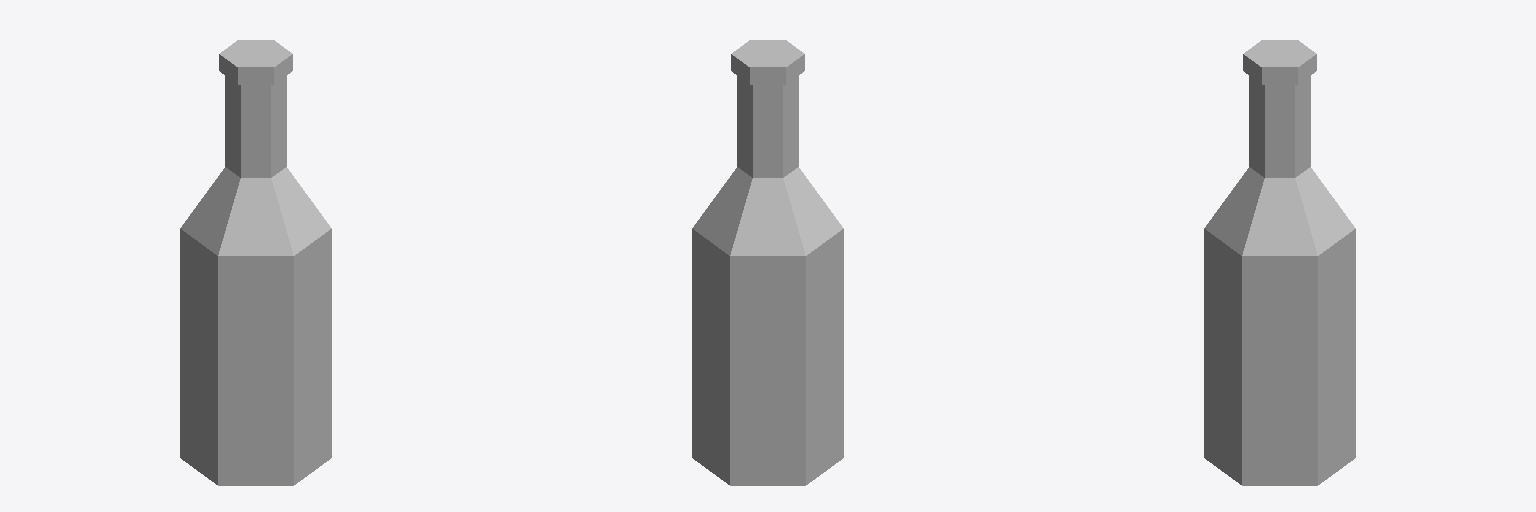
The model's file is Bottle.obj.
The picture shows the model from 3 angles: view 1: azimuth 30°, elevation 25°; view 2: azimuth 150°, elevation 25°; view 3: azimuth 270°, elevation 25°; orthographic projection.
Parts seen in each view (by area): view 1: Cylinder; view 2: Cylinder; view 3: Cylinder.
Boxes of the visible parts, box(x1,y1,x2,y2) form: Cylinder: box(180, 40, 331, 485); Cylinder: box(692, 40, 843, 485); Cylinder: box(1204, 40, 1355, 485).
Bounding box in the file's own units: 0.2638 × 0.8955 × 0.3046.